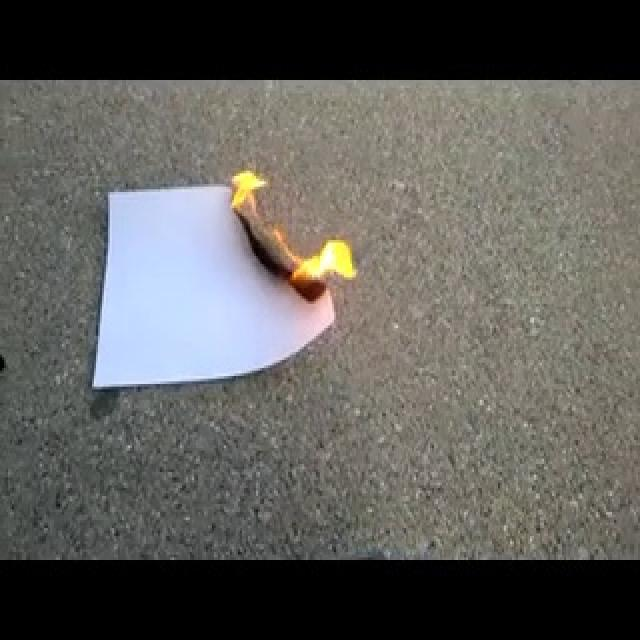fire: (254, 154, 388, 312)
